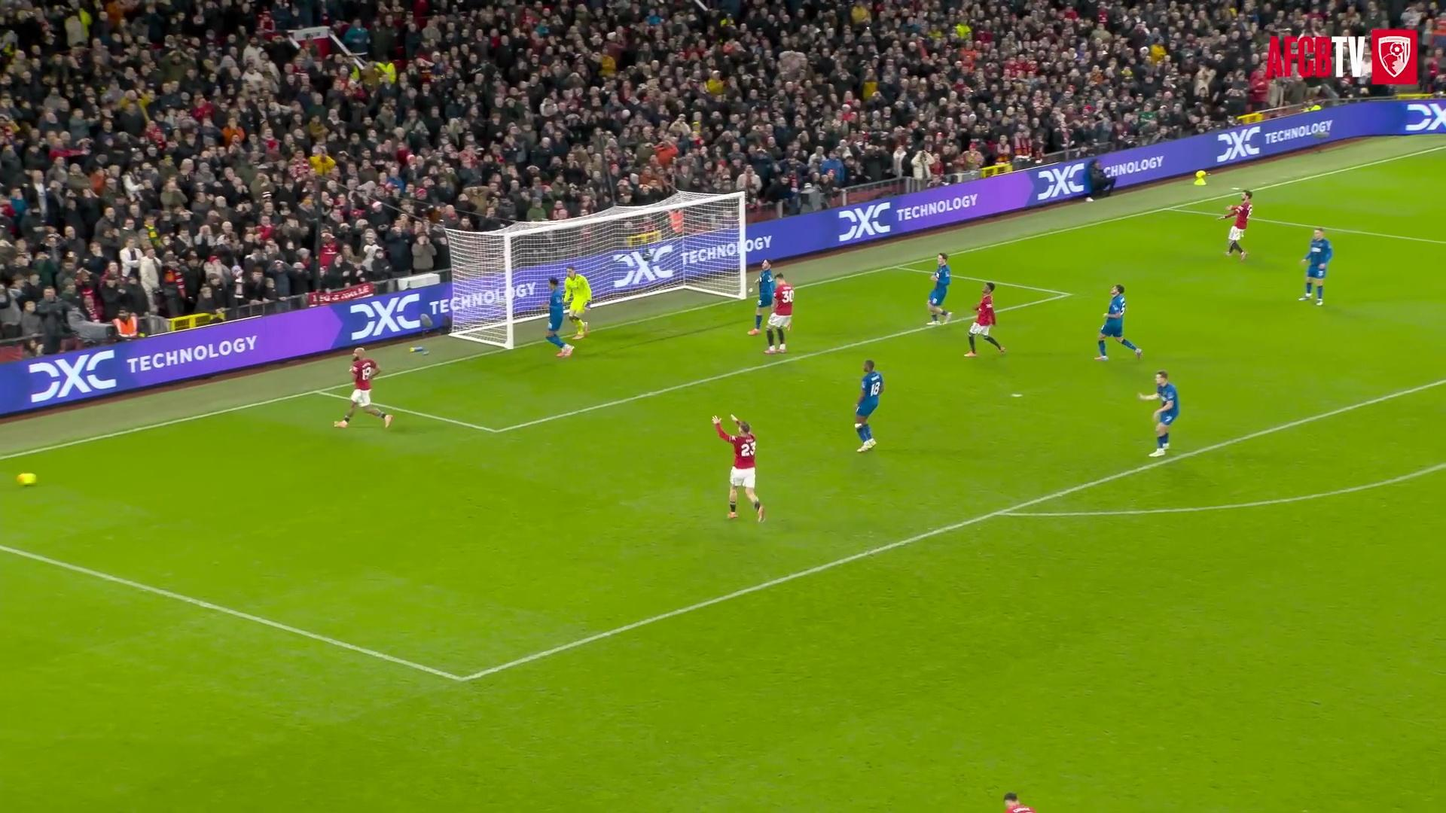football: (14, 462, 42, 499)
player: (712, 416, 764, 521), (334, 347, 392, 428), (1096, 284, 1142, 359), (1139, 370, 1179, 456), (966, 282, 1005, 357), (855, 360, 883, 452), (1300, 228, 1332, 305), (764, 274, 794, 354), (1219, 190, 1252, 260), (546, 277, 573, 357), (564, 267, 591, 340), (748, 260, 774, 335), (926, 252, 951, 325), (1003, 793, 1034, 812)
